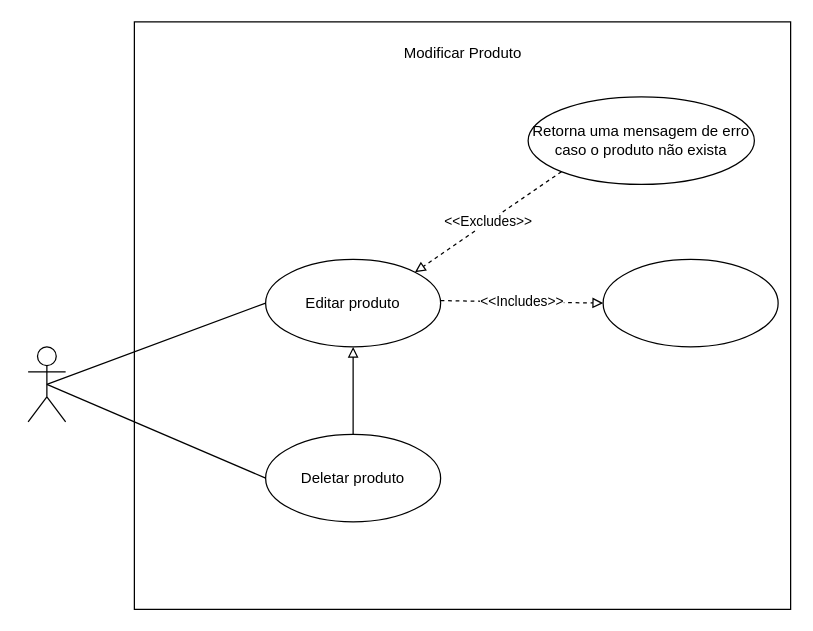
Image size: 813x631. Some labels were removed from this diagram. The centre of each missing label's shape, as x and y in pixels:
"Usuário" belongs at [46,384].
"Verifica se o produto já existe no BD" belongs at [690,302].
